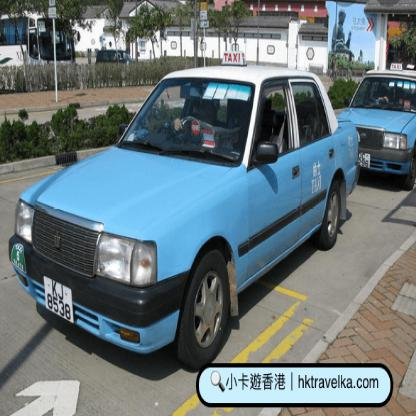taxi: (10, 48, 367, 374)
